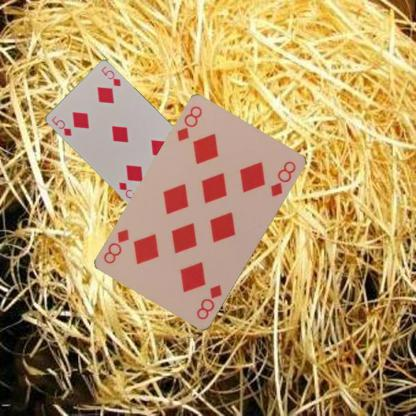5d: (48, 112, 73, 138)
8d: (194, 282, 224, 322), (174, 104, 204, 144)
